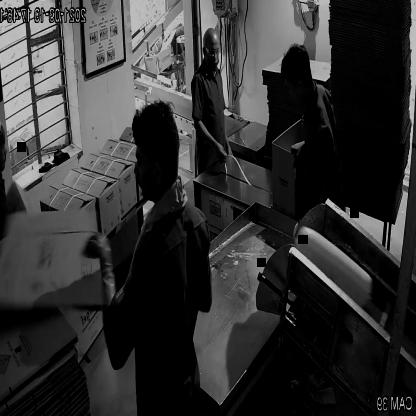glove: (83, 223, 122, 320)
no_glove: (188, 117, 233, 168)
